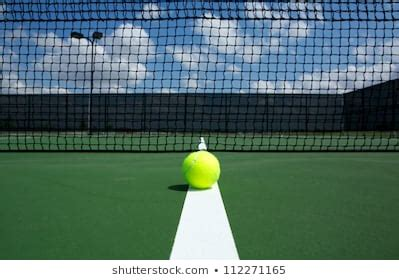tennis_ball: (182, 150, 220, 190)
